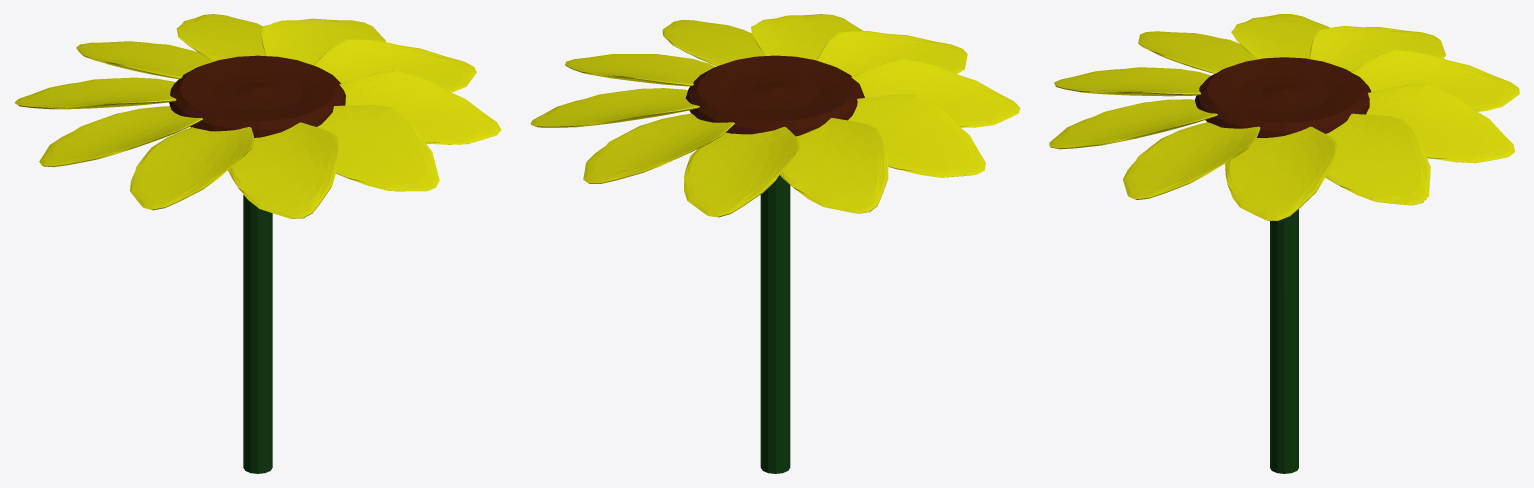
The model's file is YellowOption.fbx.
The picture shows the model from 3 angles, left to right: view 1: azimuth 30°, elevation 25°; view 2: azimuth 150°, elevation 25°; view 3: azimuth 270°, elevation 25°; orthographic projection.
Parts seen in each view (by area): view 1: Flower_0_0; view 2: Flower_0_0; view 3: Flower_0_0.
Part boxes in pixels (x1=…): Flower_0_0: x1=14, y1=14, x2=501, y2=473; Flower_0_0: x1=530, y1=14, x2=1020, y2=473; Flower_0_0: x1=1049, y1=14, x2=1519, y2=473.
Bounding box in the file's own units: 1.91 × 1.63 × 1.83.
